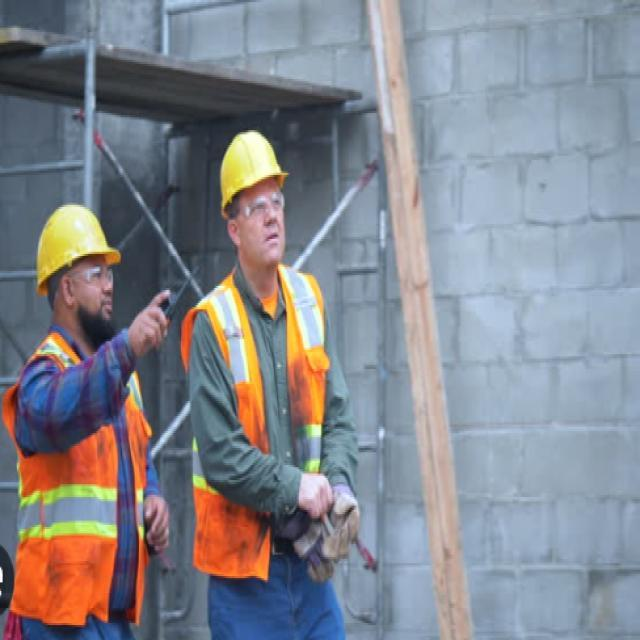hard_hat: (214, 124, 294, 288), (33, 201, 121, 341)
vest: (179, 263, 330, 587), (0, 328, 153, 629)
